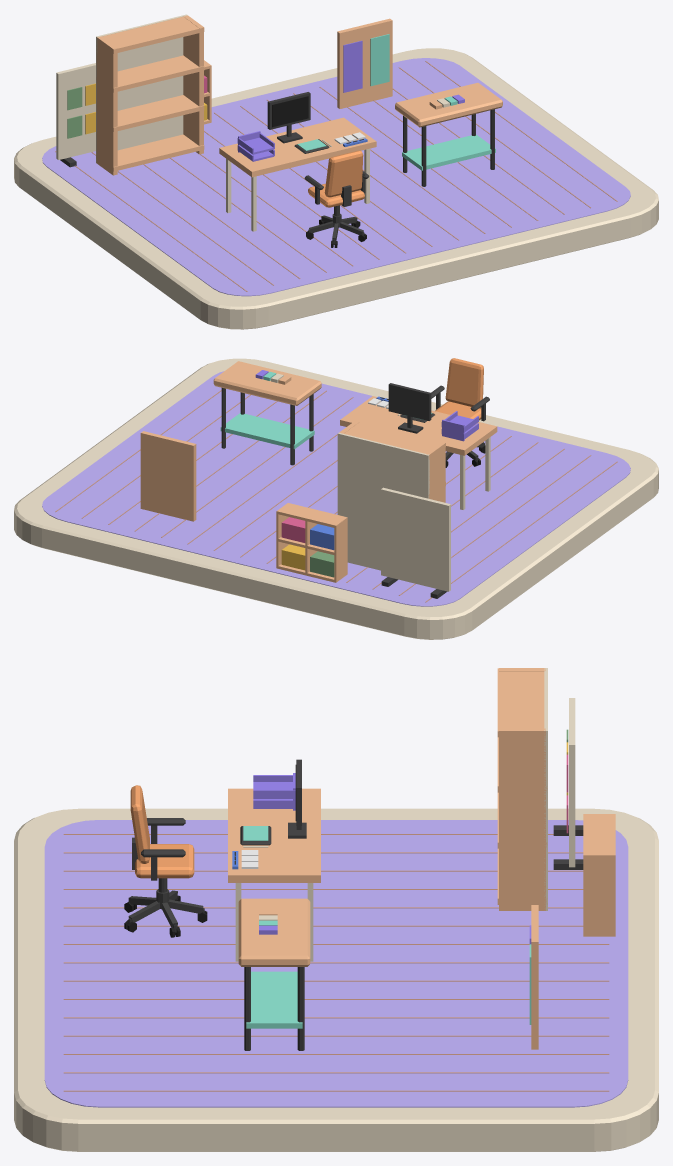
Rendered from room.fbx.
The picture shows the model from 3 angles, top to bottom: view 1: azimuth 30°, elevation 25°; view 2: azimuth 150°, elevation 25°; view 3: azimuth 270°, elevation 25°; orthographic projection. The views are drawn at different scales.
Parts seen in each view (by area): view 1: COM-02 Floor Surface, COM-01 Rounded Base Direct, Top, Back, COM-04_Chair_blender_direct, Side, Design board, Panel, Worktop, Side.001, Shelf.003, Lower shelf (+6 smaller); view 2: COM-02 Floor Surface, COM-01 Rounded Base Direct, Back, Panel, Design board, Top, COM-04_Chair_blender_direct, Worktop, Lower shelf, Frame, Shelf.003, Side (+6 smaller); view 3: COM-02 Floor Surface, COM-01 Rounded Base Direct, Side.001, Top, COM-04_Chair_blender_direct, Worktop, Shelf.003, Lower shelf, Cubbies divider.002, Cubbies shelf.002, Panel, Design board (+9 smaller).
Boxes of the visible parts, bbox=[...] form: COM-02 Floor Surface: bbox=[42, 58, 630, 296]; COM-01 Rounded Base Direct: bbox=[14, 48, 658, 329]; Top: bbox=[219, 117, 376, 231]; Back: bbox=[96, 14, 187, 162]; COM-04_Chair_blender_direct: bbox=[304, 150, 369, 247]; Side: bbox=[96, 36, 117, 175]; Design board: bbox=[337, 18, 392, 108]; Panel: bbox=[56, 63, 95, 159]; Worktop: bbox=[395, 82, 502, 127]; Side.001: bbox=[183, 15, 203, 154]; Shelf.003: bbox=[102, 16, 204, 53]; Lower shelf: bbox=[402, 134, 495, 170]; COM-02 Floor Surface: bbox=[42, 371, 630, 606]; COM-01 Rounded Base Direct: bbox=[14, 358, 658, 639]; Back: bbox=[337, 432, 429, 570]; Panel: bbox=[381, 487, 450, 591]; Design board: bbox=[140, 431, 196, 521]; Top: bbox=[340, 396, 497, 509]; COM-04_Chair_blender_direct: bbox=[431, 358, 489, 467]; Worktop: bbox=[213, 361, 321, 405]; Lower shelf: bbox=[220, 413, 314, 449]; Frame: bbox=[388, 383, 431, 433]; Shelf.003: bbox=[344, 421, 445, 459]; Side: bbox=[425, 442, 445, 502]; COM-02 Floor Surface: bbox=[44, 820, 628, 1107]; COM-01 Rounded Base Direct: bbox=[14, 808, 658, 1151]; Side.001: bbox=[499, 728, 545, 910]; Top: bbox=[228, 788, 320, 961]; COM-04_Chair_blender_direct: bbox=[124, 785, 207, 937]; Worktop: bbox=[238, 898, 310, 966]; Shelf.003: bbox=[497, 668, 544, 737]; Lower shelf: bbox=[246, 971, 302, 1028]; Cubbies divider.002: bbox=[583, 855, 615, 936]; Cubbies shelf.002: bbox=[583, 814, 615, 855]; Panel: bbox=[569, 698, 575, 867]; Design board: bbox=[531, 905, 538, 1049].
Bounding box in the file's own units: 600 × 190 × 520.
